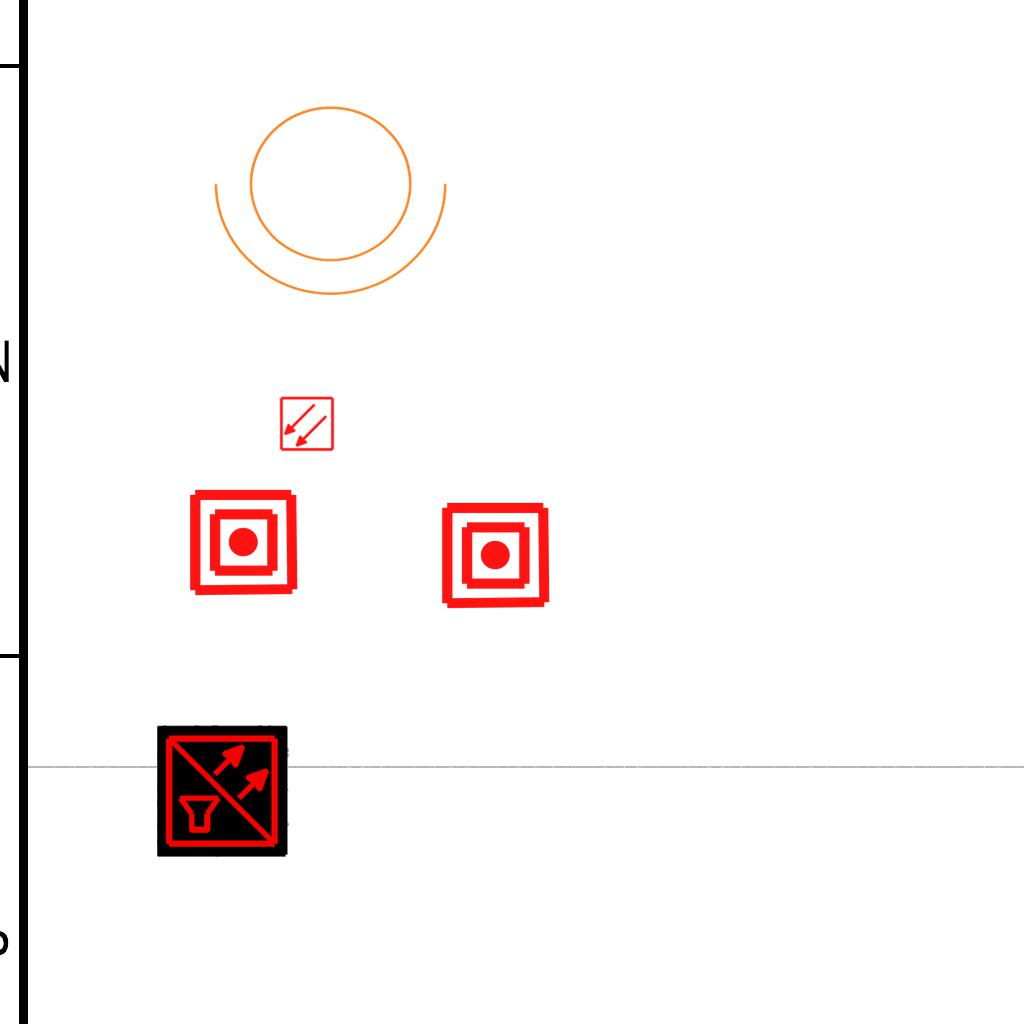NAM-Nichtautomatischer_Melder: (187, 486, 300, 599), (439, 499, 552, 612)
OKW_Multisensormelder_(Kombination_optischer_Rauch-Kahlenmonoxid_Waerme-Melder): (157, 725, 289, 857)
RMO_Rauchmelder_optischer: (279, 396, 335, 452)
Scheinwerfer_fuer_Alarmbeleuchtung: (205, 81, 469, 306)
